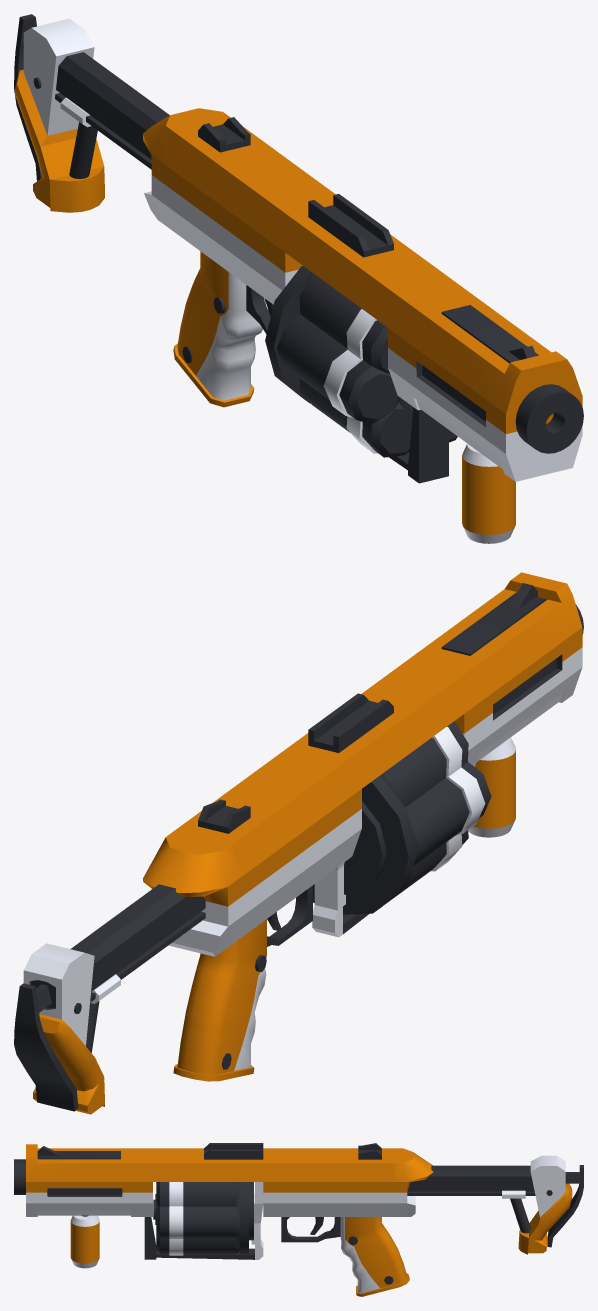
The picture shows the model from 3 angles, top to bottom: view 1: azimuth 30°, elevation 25°; view 2: azimuth 150°, elevation 25°; view 3: azimuth 270°, elevation 25°; orthographic projection. The views are drawn at different scales.
Visible parts, largest first — view 1: mergedBlocks; view 2: mergedBlocks; view 3: mergedBlocks.
Boxes of the visible parts, x1,y1,x2,y2 form: mergedBlocks: (14, 14, 583, 543); mergedBlocks: (14, 572, 583, 1114); mergedBlocks: (14, 1143, 583, 1296).
Size of the model in its own units: 0.7787 by 1.35 by 4.8.
